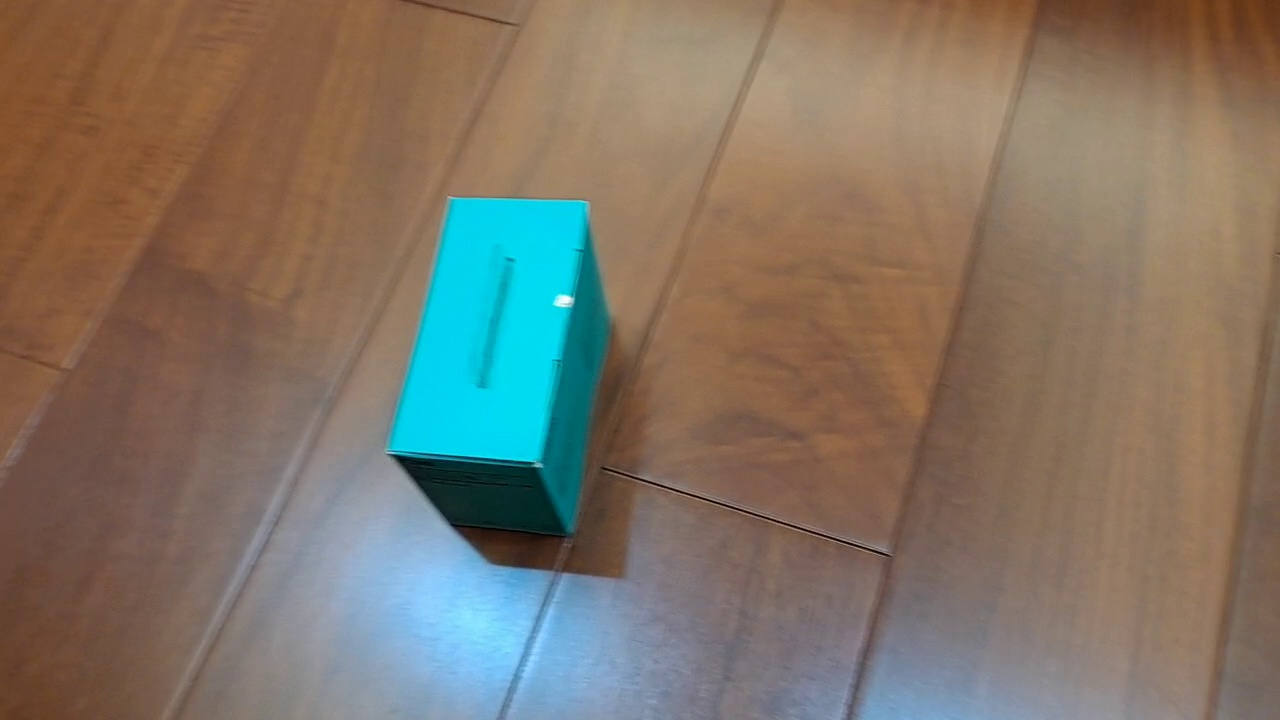webcam: (384, 191, 614, 539)
